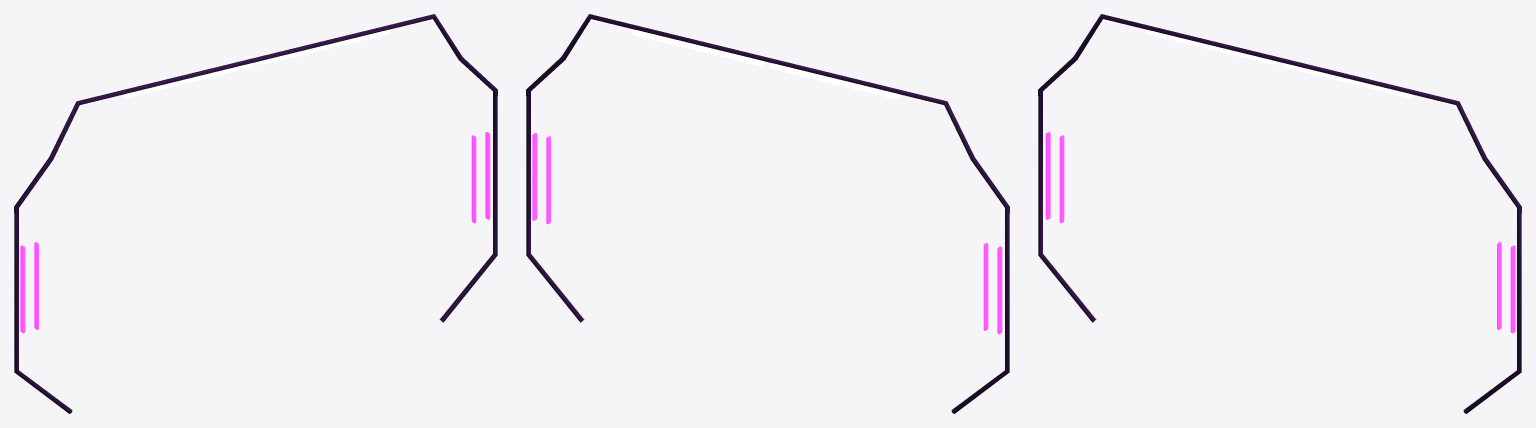
The model's file is neon_octagon_runway_frame.glb.
3 views of the same model, side by side, from view 1: azimuth 30°, elevation 25°; view 2: azimuth 150°, elevation 25°; view 3: azimuth 330°, elevation 25° (orthographic).
Visible parts, largest first — view 1: Octagon Frame Housing, Left White Ceiling Bar, Right White Ceiling Bar, Right Violet Wall Bar 1, Left Violet Wall Bar 1, Right Violet Wall Bar 2; view 2: Octagon Frame Housing, Left White Ceiling Bar, Right White Ceiling Bar, Left Violet Wall Bar 1, Left Violet Wall Bar 2, Right Violet Wall Bar 2; view 3: Octagon Frame Housing, Left White Ceiling Bar, Right White Ceiling Bar, Left Violet Wall Bar 2, Left Violet Wall Bar 1, Right Violet Wall Bar 2.
Boxes of the visible parts, bbox=[...] form: Octagon Frame Housing: bbox=[14, 14, 497, 413]; Left White Ceiling Bar: bbox=[121, 63, 252, 98]; Right White Ceiling Bar: bbox=[258, 29, 389, 64]; Right Violet Wall Bar 1: bbox=[471, 135, 476, 223]; Left Violet Wall Bar 1: bbox=[20, 245, 25, 333]; Right Violet Wall Bar 2: bbox=[485, 132, 490, 219]; Octagon Frame Housing: bbox=[526, 14, 1009, 413]; Left White Ceiling Bar: bbox=[769, 63, 901, 99]; Right White Ceiling Bar: bbox=[632, 29, 764, 65]; Left Violet Wall Bar 1: bbox=[997, 246, 1002, 334]; Left Violet Wall Bar 2: bbox=[983, 243, 988, 330]; Right Violet Wall Bar 2: bbox=[532, 133, 537, 220]; Octagon Frame Housing: bbox=[1038, 14, 1521, 413]; Left White Ceiling Bar: bbox=[1146, 29, 1277, 64]; Right White Ceiling Bar: bbox=[1283, 63, 1414, 98]; Left Violet Wall Bar 2: bbox=[1059, 135, 1064, 223]; Left Violet Wall Bar 1: bbox=[1045, 132, 1050, 219]; Right Violet Wall Bar 2: bbox=[1510, 245, 1515, 333].
Size of the model in its own units: 12.54 by 7.7 by 0.2.
